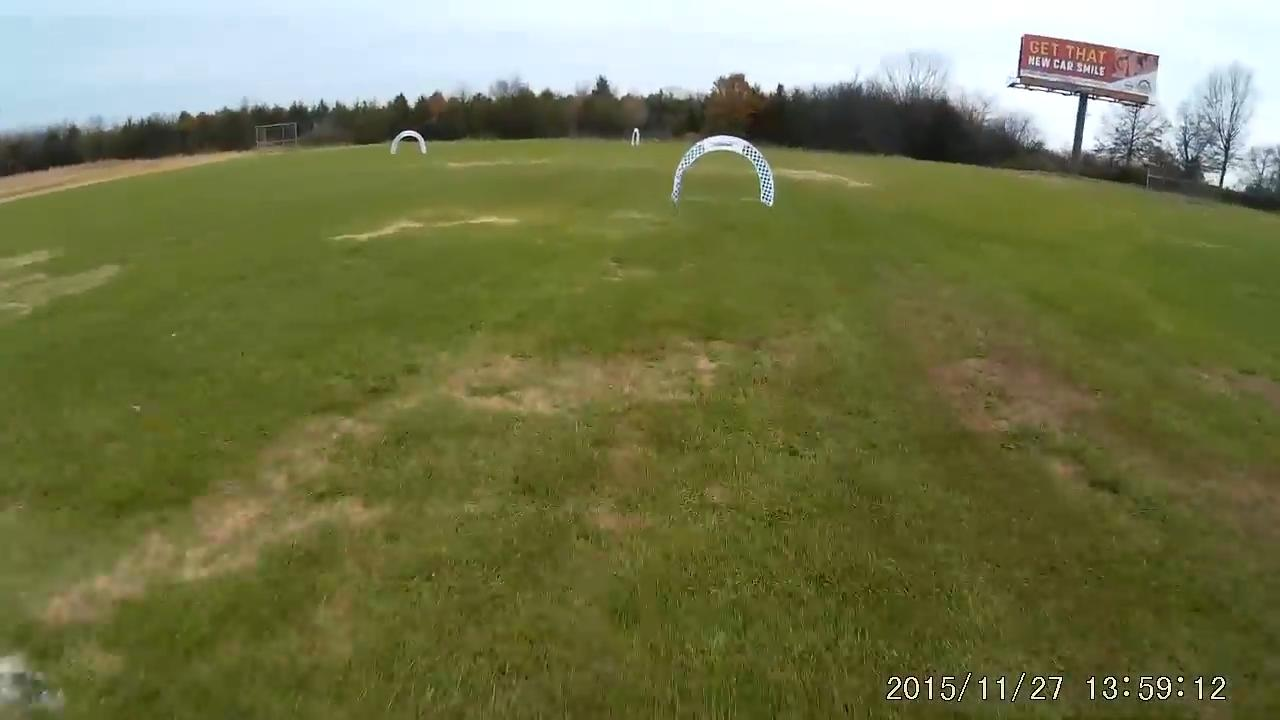gate: (670, 132, 778, 206)
